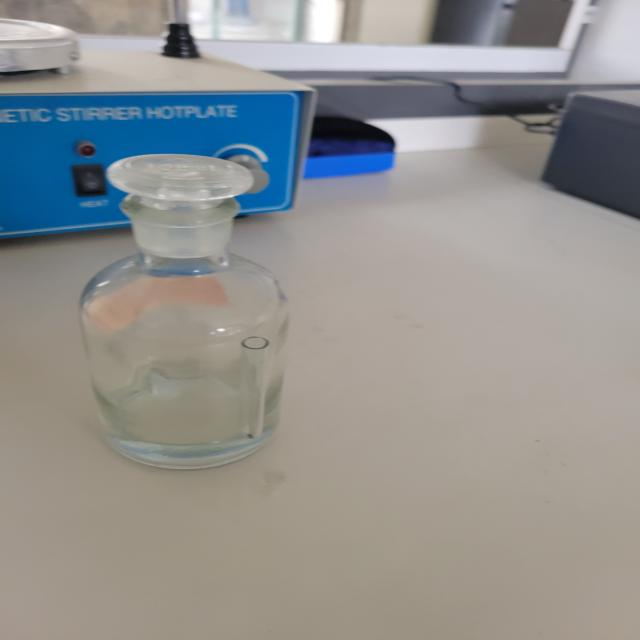Reagent_Bottle: (30, 135, 338, 508)
